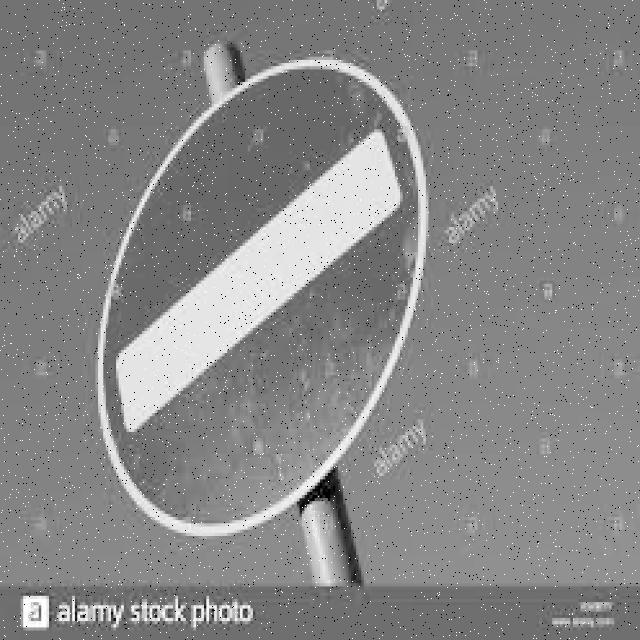no entry: (95, 54, 426, 532)
